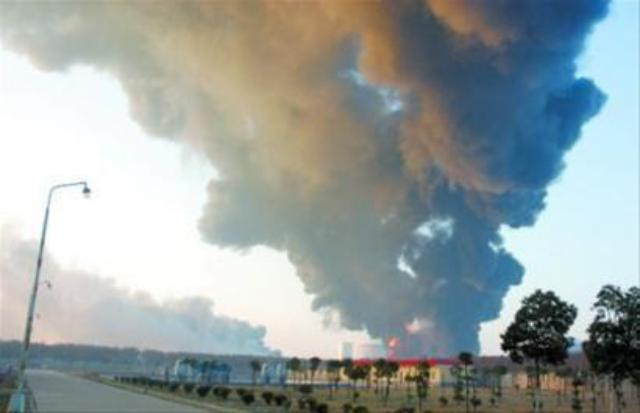smoke: (185, 4, 441, 174), (442, 1, 574, 180), (203, 174, 502, 247), (316, 248, 480, 327), (24, 1, 182, 77)
